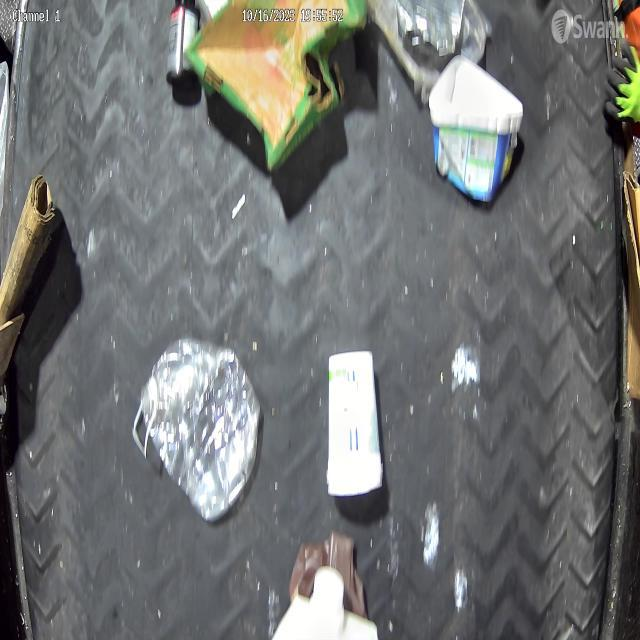can: (392, 0, 476, 56)
plastic_bottle: (132, 337, 264, 522)
